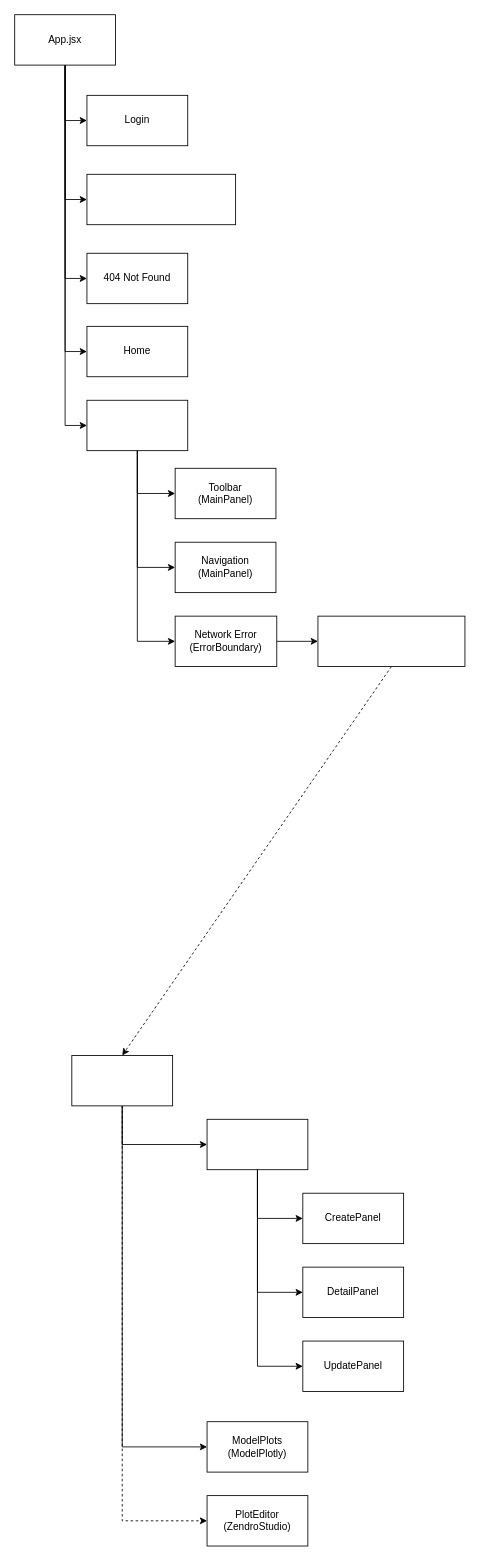
The diagram is 480 pixels wide and 1561 high, and some of its shapes have lost their labels. The shapes that lost their labels are listed below. From the top down, each one's centre as x and y in pixels, then its label:
At [161,199]: "PermissionsPages".
At [137,425]: "Main Layout".
At [391,641]: "Route Content (Main Switch + Table Switch)".
At [122,1080]: "ModelRoutes (EnhancedTable)".
At [257,1144]: "ModelTable (EnhancedTable)".
